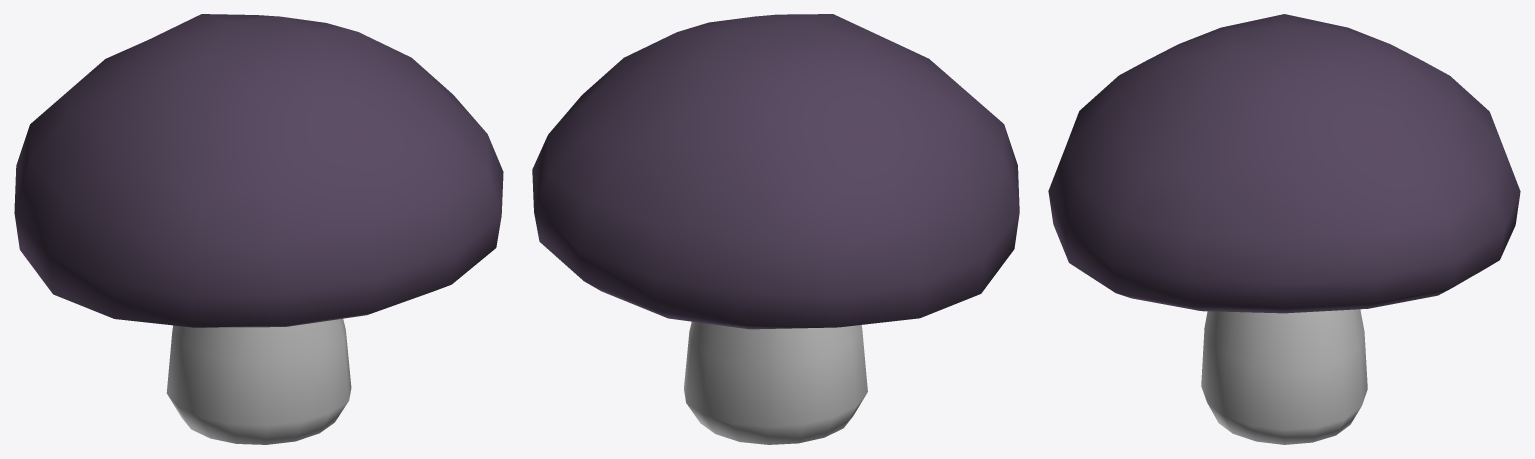
Rendered from M_Mushroom1a.fbx.
3 views of the same model, side by side, from view 1: azimuth 30°, elevation 25°; view 2: azimuth 150°, elevation 25°; view 3: azimuth 270°, elevation 25° (orthographic). The views are drawn at different scales.
Visible parts, largest first — view 1: polySurface85; view 2: polySurface85; view 3: polySurface85.
Boxes of the visible parts, x1=… form: polySurface85: x1=14, y1=14, x2=503, y2=444; polySurface85: x1=532, y1=14, x2=1019, y2=444; polySurface85: x1=1048, y1=14, x2=1520, y2=444.
Size of the model in its own units: 0.3235 by 0.2772 by 0.3235.
